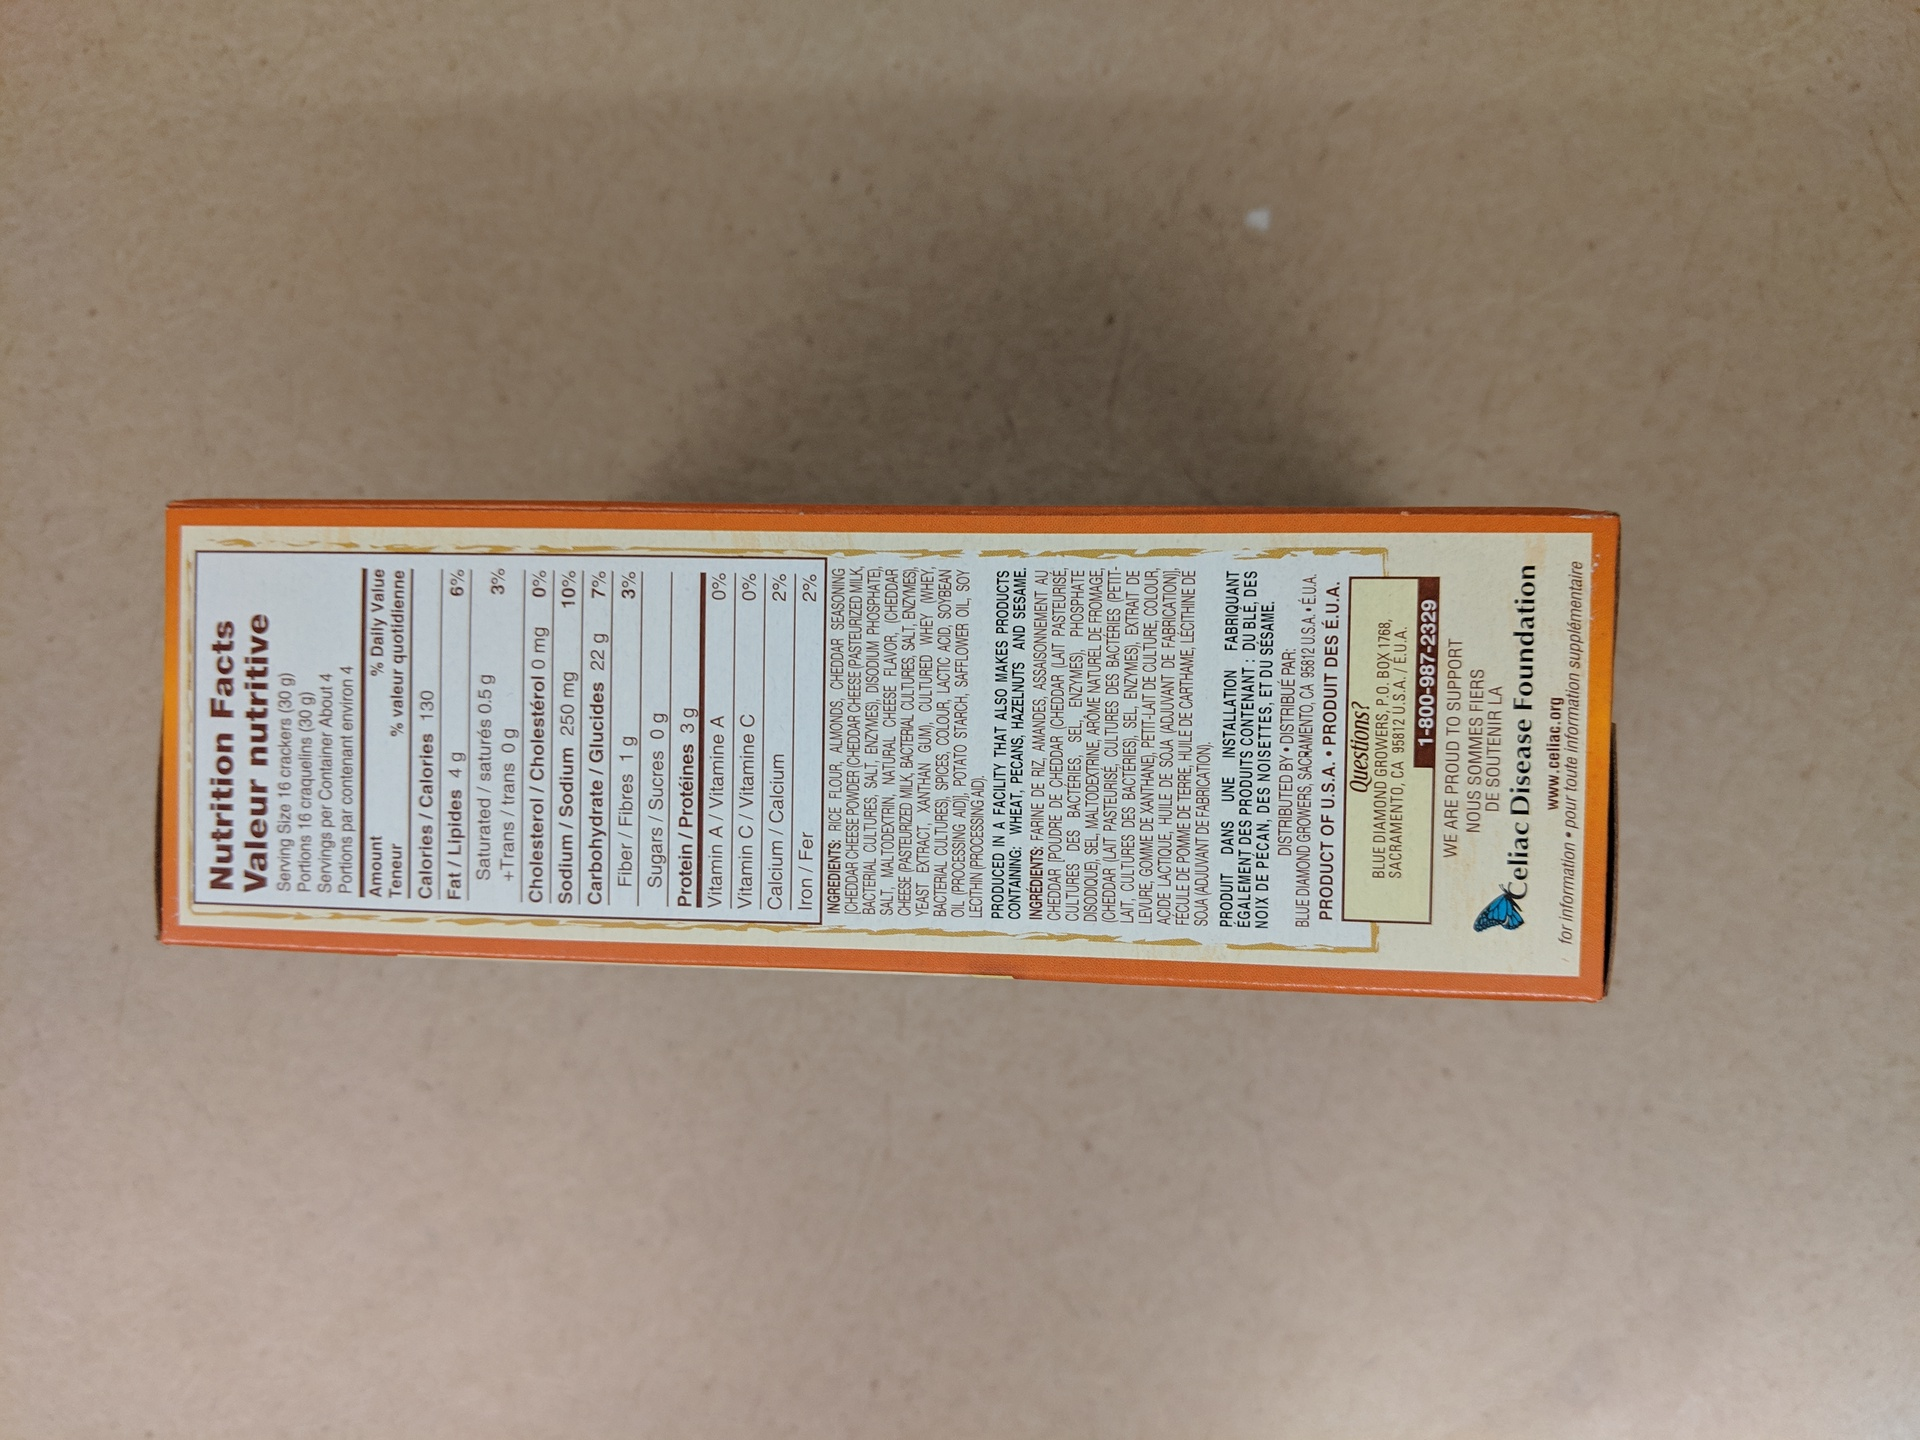blue_diamond_nut_thins_almond_cheddar: (138, 483, 1637, 1016)
